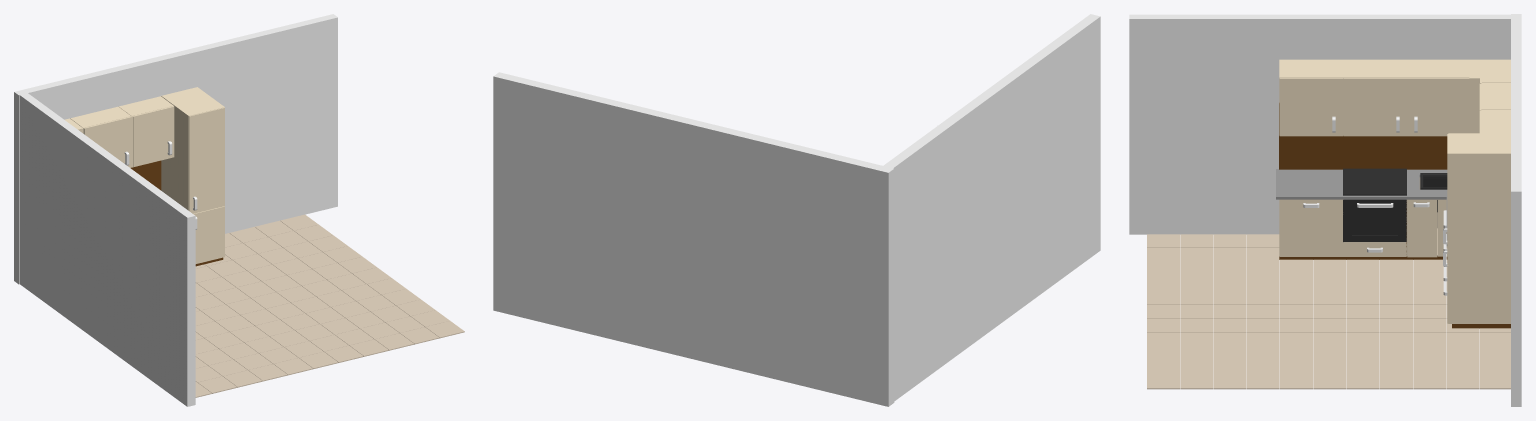
File: kitchen2.gltf
3 views of the same model, side by side, from view 1: azimuth 30°, elevation 25°; view 2: azimuth 150°, elevation 25°; view 3: azimuth 270°, elevation 25° (orthographic). The views are drawn at different scales.
Parts seen in each view (by area): view 1: Cube.027_58, Cube.028_59, Cube.025_56, Cube.021_52, Cube.020_51, Cube.040_6, Cube.022_53, Cube.041_1, Cube.043_5, Cube.038_21, Cube.046_9; view 2: Cube.028_59, Cube.027_58; view 3: Cube.025_56, Cube.027_58, Cube.020_51, Cube.045_8, Cube.028_59, Cube.029_62, Cube.034_63, Cube.035_66, Cube.014_45, Cube.012_35, Cube.004_27, Cube.011_34 (+12 smaller).
Boxes of the visible parts, x1,y1,x2,y2 form: Cube.027_58: [19, 93, 195, 406]; Cube.028_59: [14, 14, 337, 284]; Cube.025_56: [195, 214, 464, 397]; Cube.021_52: [189, 107, 224, 213]; Cube.020_51: [161, 87, 224, 210]; Cube.040_6: [132, 106, 174, 167]; Cube.022_53: [193, 206, 224, 263]; Cube.041_1: [83, 116, 132, 167]; Cube.043_5: [70, 106, 130, 127]; Cube.038_21: [118, 96, 173, 116]; Cube.046_9: [130, 160, 161, 190]; Cube.028_59: [493, 72, 894, 406]; Cube.027_58: [883, 14, 1100, 401]; Cube.025_56: [1147, 234, 1510, 389]; Cube.027_58: [1129, 14, 1510, 234]; Cube.020_51: [1448, 133, 1510, 323]; Cube.045_8: [1279, 103, 1447, 169]; Cube.028_59: [1511, 14, 1521, 406]; Cube.029_62: [1279, 78, 1343, 136]; Cube.034_63: [1343, 78, 1407, 136]; Cube.035_66: [1407, 78, 1470, 136]; Cube.014_45: [1279, 199, 1343, 256]; Cube.012_35: [1276, 169, 1447, 245]; Cube.004_27: [1343, 199, 1406, 242]; Cube.011_34: [1343, 168, 1406, 195].
Size of the model in its own units: 118 by 66.99 by 110.
